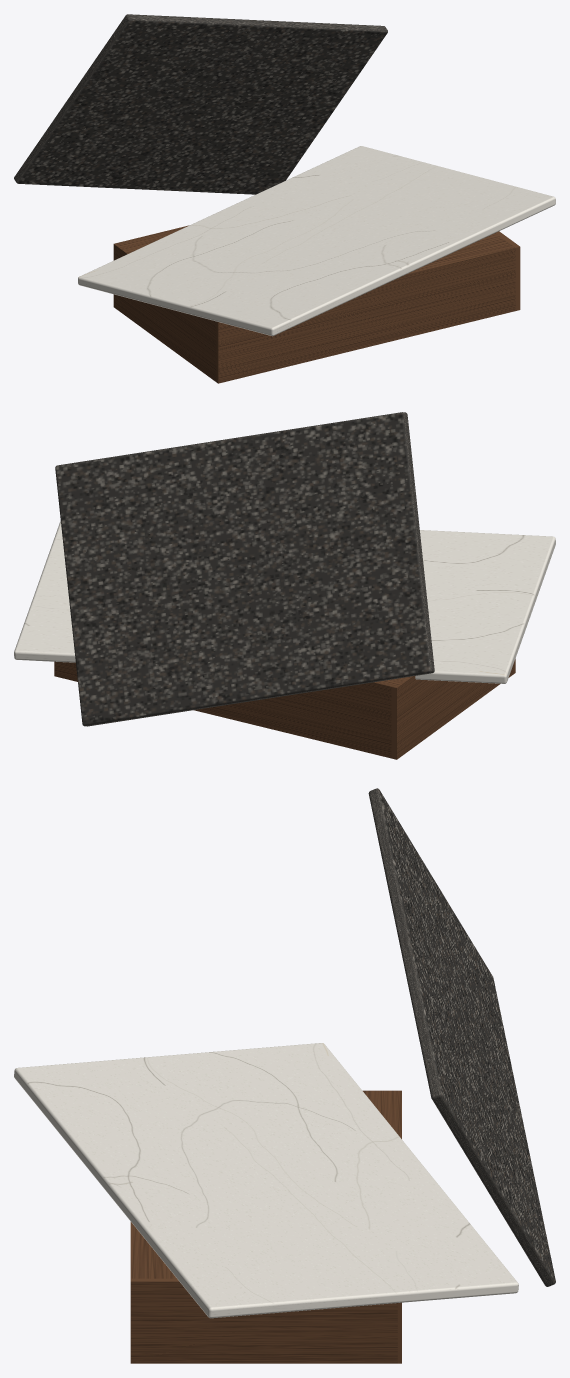
3 views of the same model, one above another, from view 1: azimuth 30°, elevation 25°; view 2: azimuth 150°, elevation 25°; view 3: azimuth 270°, elevation 25° (orthographic). The views are drawn at different scales.
Size of the model in its own units: 2.16 by 1.42 by 1.8.
Materials: 3 (3 with a texture image).
